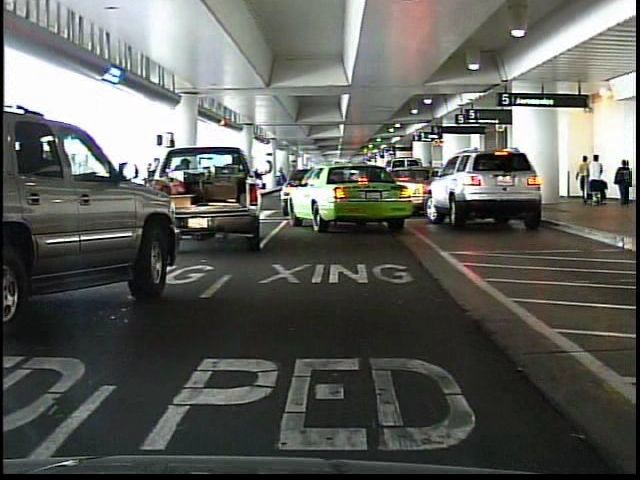person: (140, 154, 167, 222), (612, 159, 635, 209), (589, 153, 608, 210), (575, 155, 589, 205)
